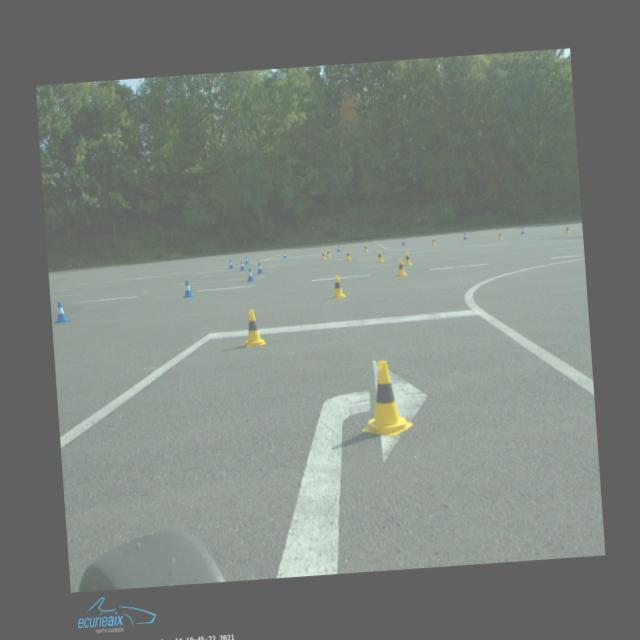blue_cone: (54, 300, 69, 323), (182, 278, 194, 296), (246, 268, 256, 282), (256, 261, 263, 273), (238, 260, 245, 270), (228, 259, 234, 268), (244, 256, 249, 264), (519, 226, 524, 233), (462, 232, 467, 239), (336, 244, 340, 252), (400, 238, 404, 245), (283, 251, 287, 258)
yellow_cone: (358, 358, 413, 438), (240, 308, 267, 348), (330, 274, 346, 298), (394, 258, 406, 276), (402, 252, 412, 266), (376, 250, 383, 262), (344, 250, 352, 260), (321, 250, 326, 260), (430, 237, 436, 244), (564, 224, 569, 232), (363, 244, 368, 252), (498, 230, 502, 238), (326, 248, 330, 256)
